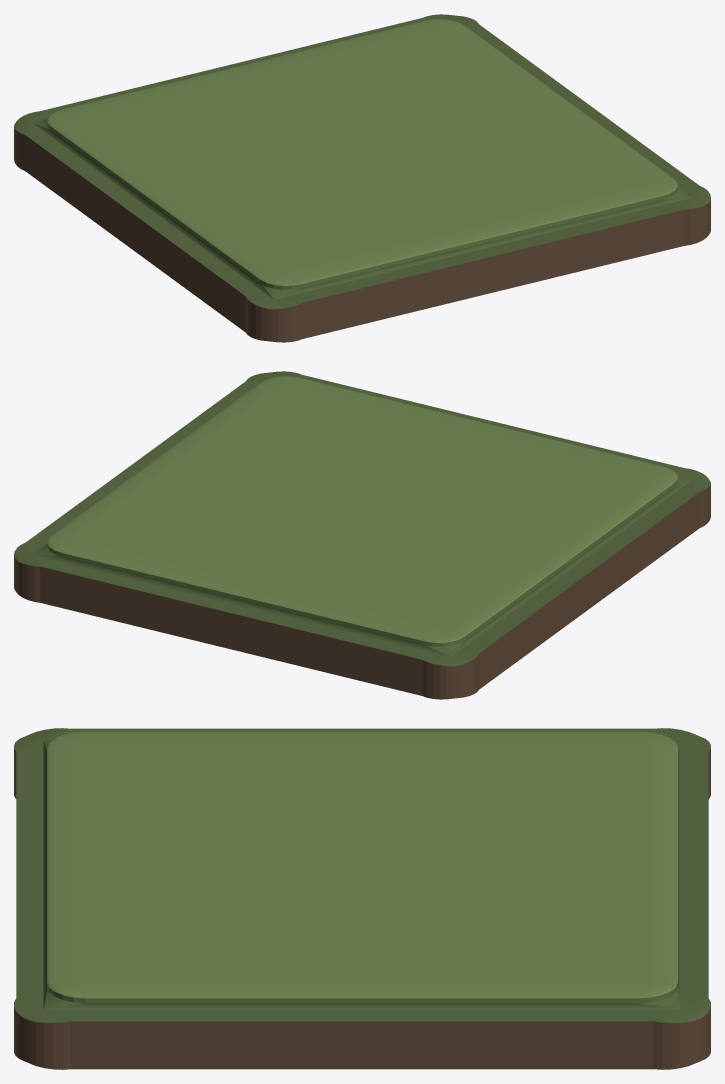
File: platform.fbx
3 renders of one model, top to bottom at view 1: azimuth 30°, elevation 25°; view 2: azimuth 150°, elevation 25°; view 3: azimuth 270°, elevation 25°, orthographic. The views are drawn at different scales.
Parts seen in each view (by area): view 1: Platform.003; view 2: Platform.003; view 3: Platform.003.
Boxes of the visible parts, x1=… form: Platform.003: x1=14, y1=14, x2=710, y2=342; Platform.003: x1=14, y1=371, x2=710, y2=699; Platform.003: x1=14, y1=728, x2=710, y2=1069.
Size of the model in its own units: 100 by 10 by 100.
